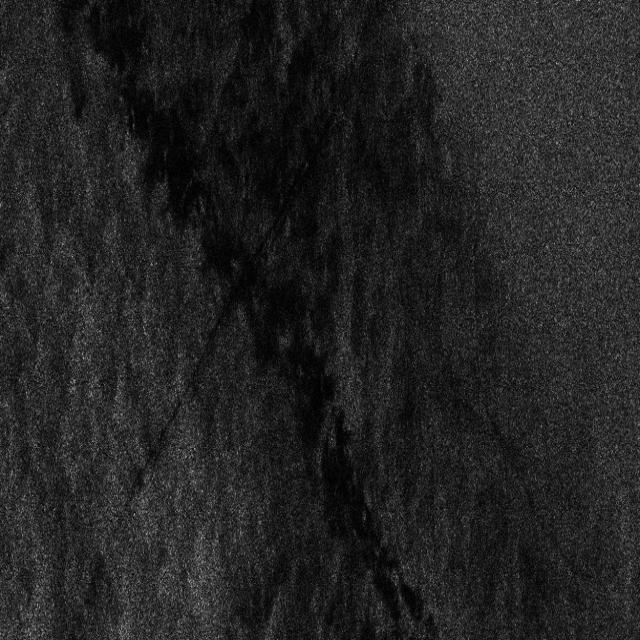look-alike: (254, 313, 456, 634), (58, 7, 226, 270), (351, 15, 464, 284)
oil-spill: (44, 295, 231, 640), (232, 107, 338, 296)
